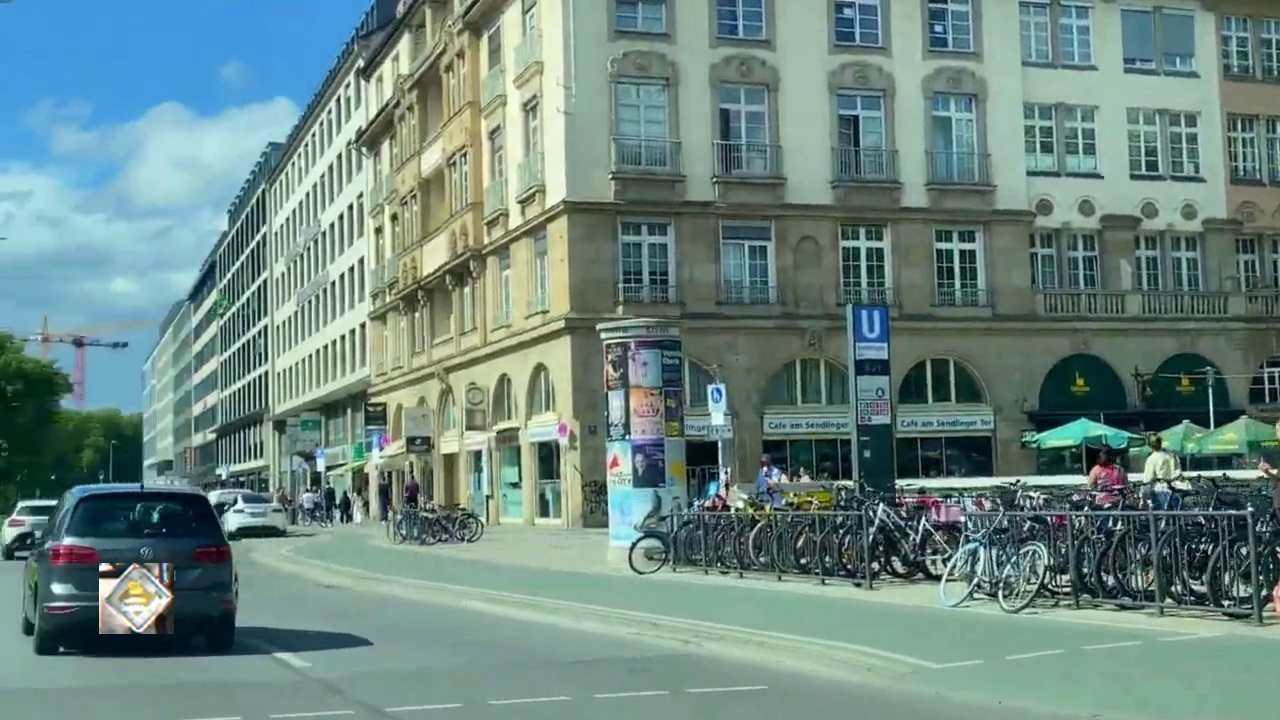Priority road: (99, 563, 174, 634)
